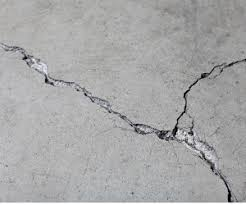crack: (0, 43, 232, 204), (173, 57, 245, 131)
